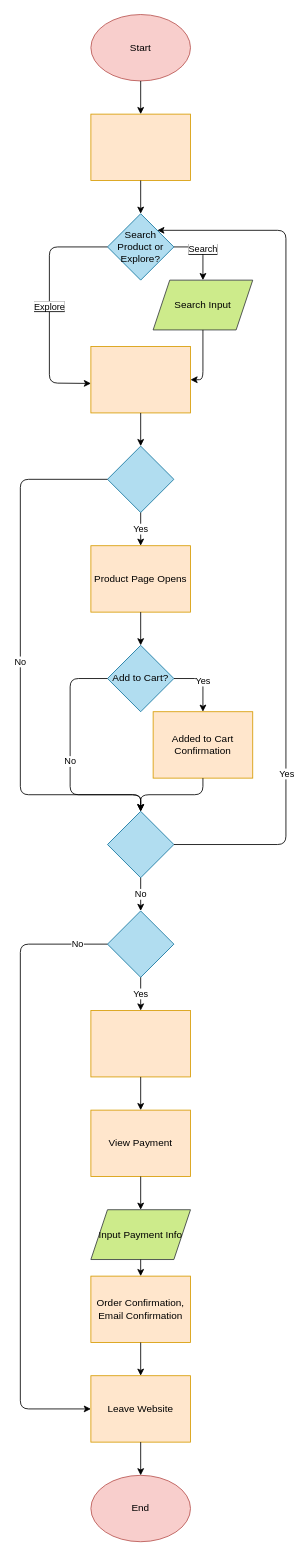
Image size: 308x1556. Some labels were removed from this diagram. Each missing label, with the centre of its shape:
"Checkout?" belongs at point 140,943.
"Continue Shopping?" belongs at point 140,844.
"Enter Website" belongs at point 140,147.
"Look Over Products" belongs at point 140,379.
"View Cart" belongs at point 140,1043.
"View Specific Product?" belongs at point 140,479.
